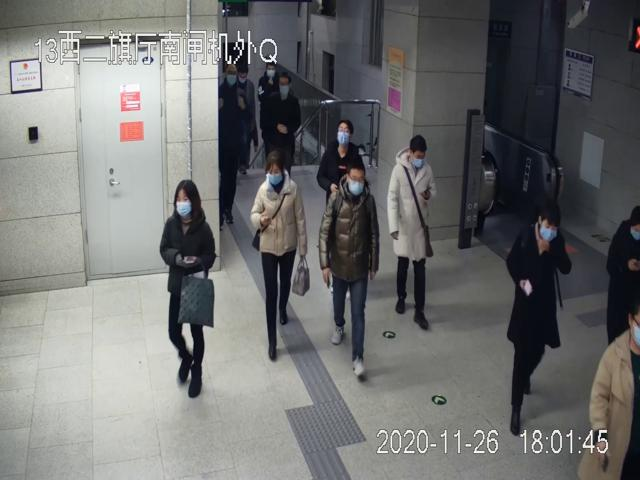person: (504, 198, 570, 437), (318, 158, 380, 374), (159, 179, 214, 398), (251, 152, 309, 359), (388, 135, 436, 330), (260, 70, 301, 195)
